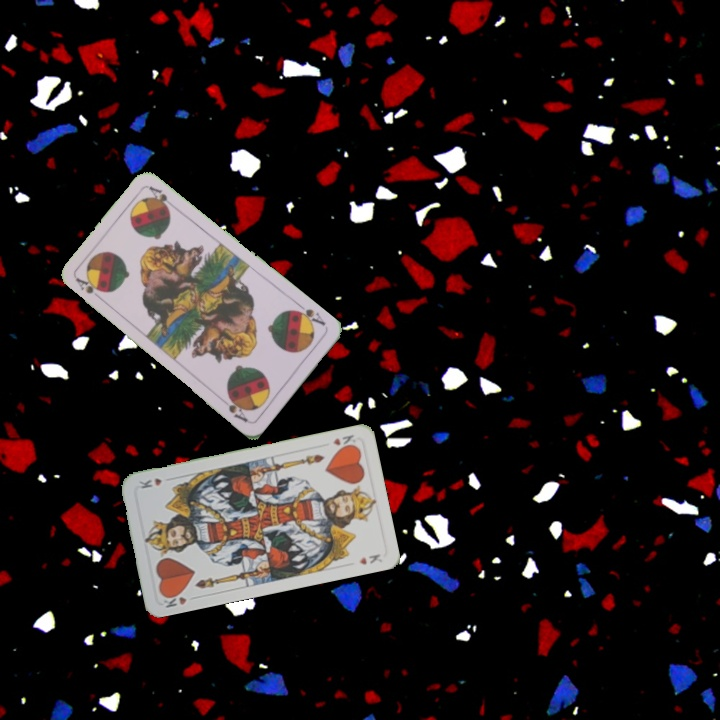HK: (158, 588, 200, 611), (329, 431, 358, 452)
SA: (290, 300, 328, 330), (72, 274, 106, 304)
